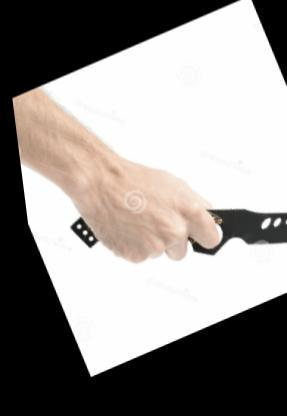knife: (111, 155, 285, 336)
